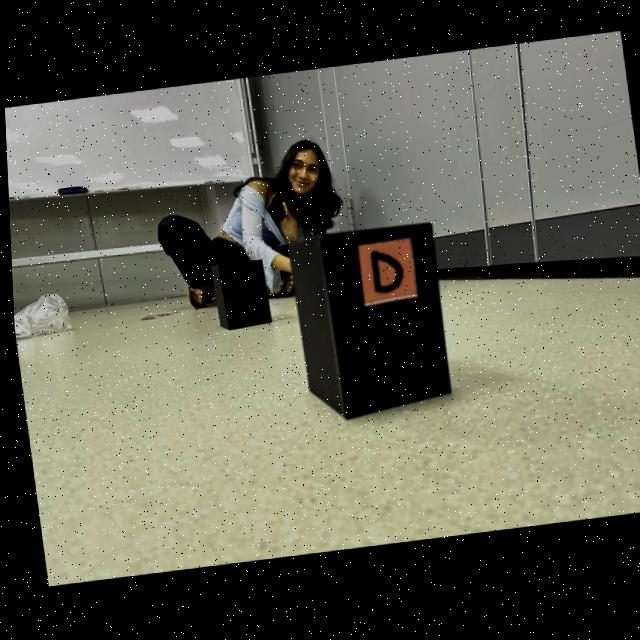D: (367, 252, 400, 295)
